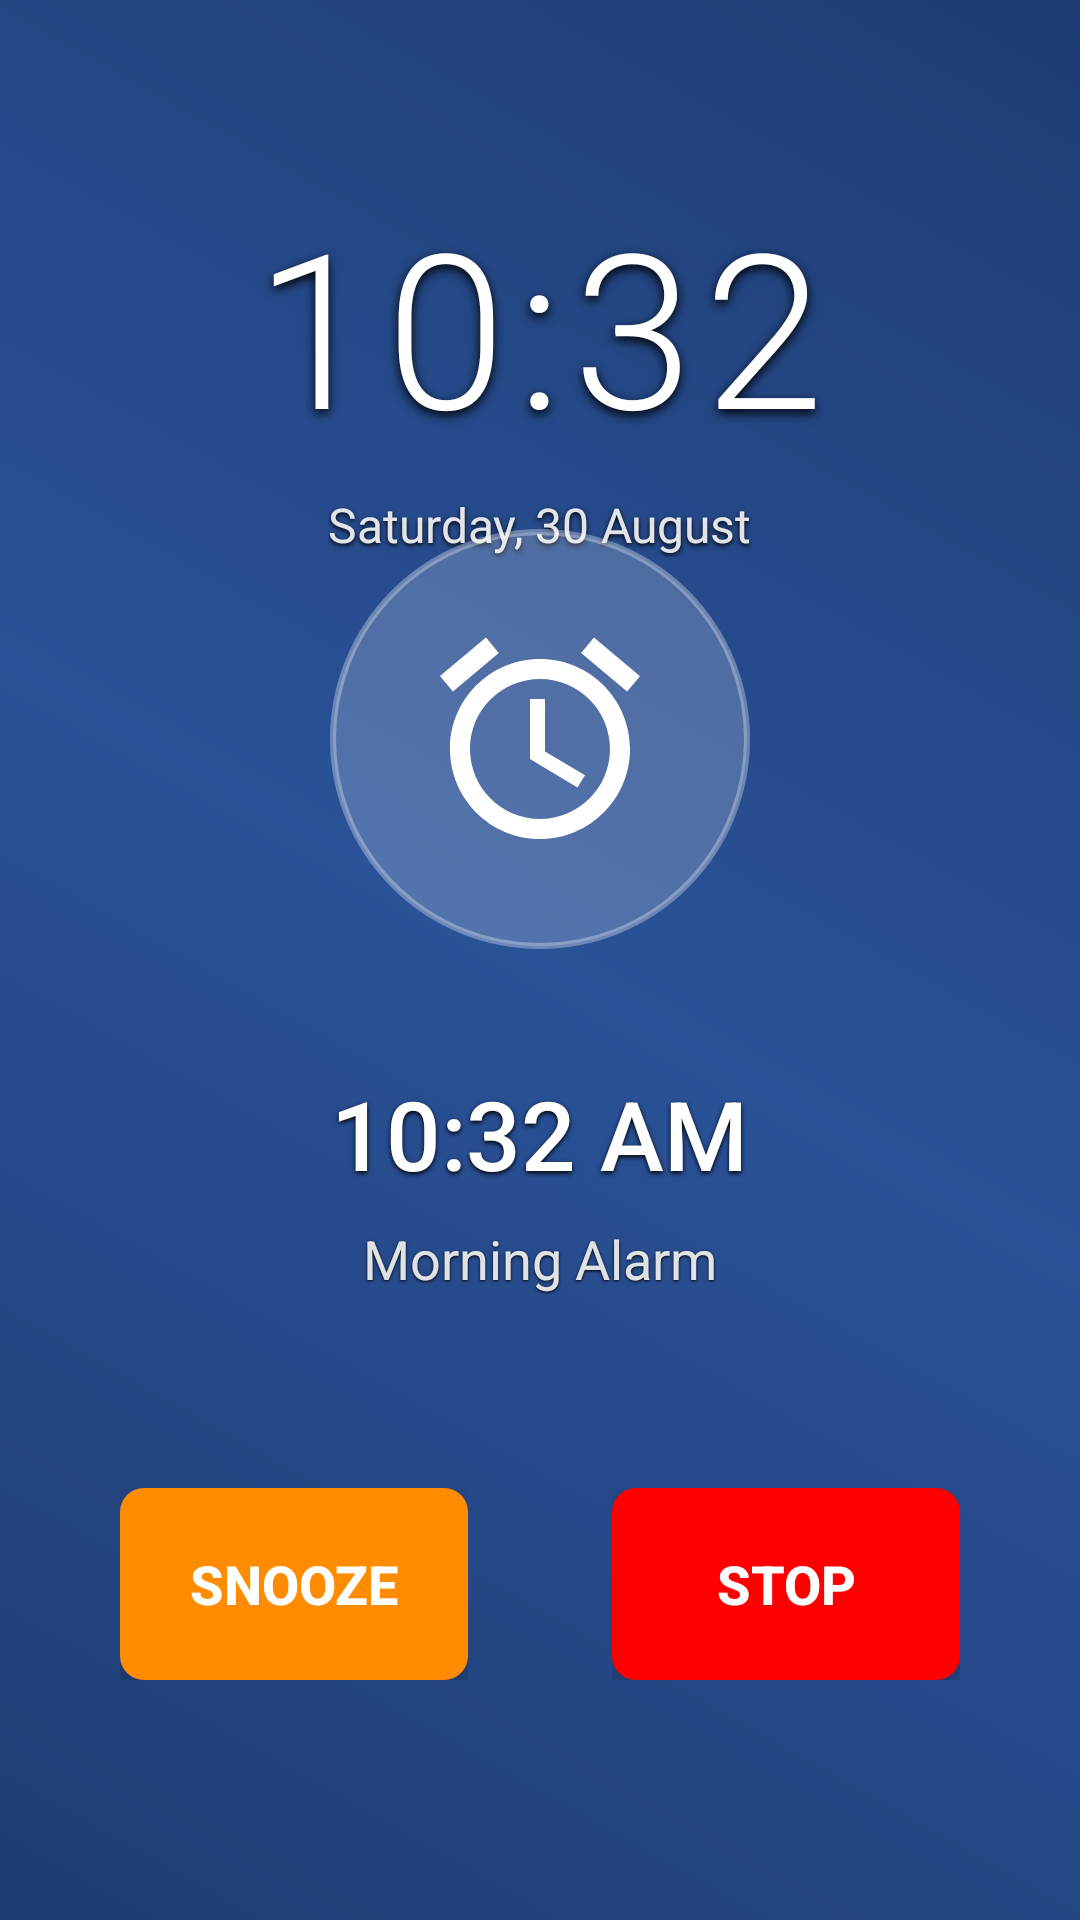

Named icons in this screenshot (1080 × 1920) and their bounding boxes, (x1, y1, x2, y2):
Alarm Clock: (440, 637, 640, 839)
